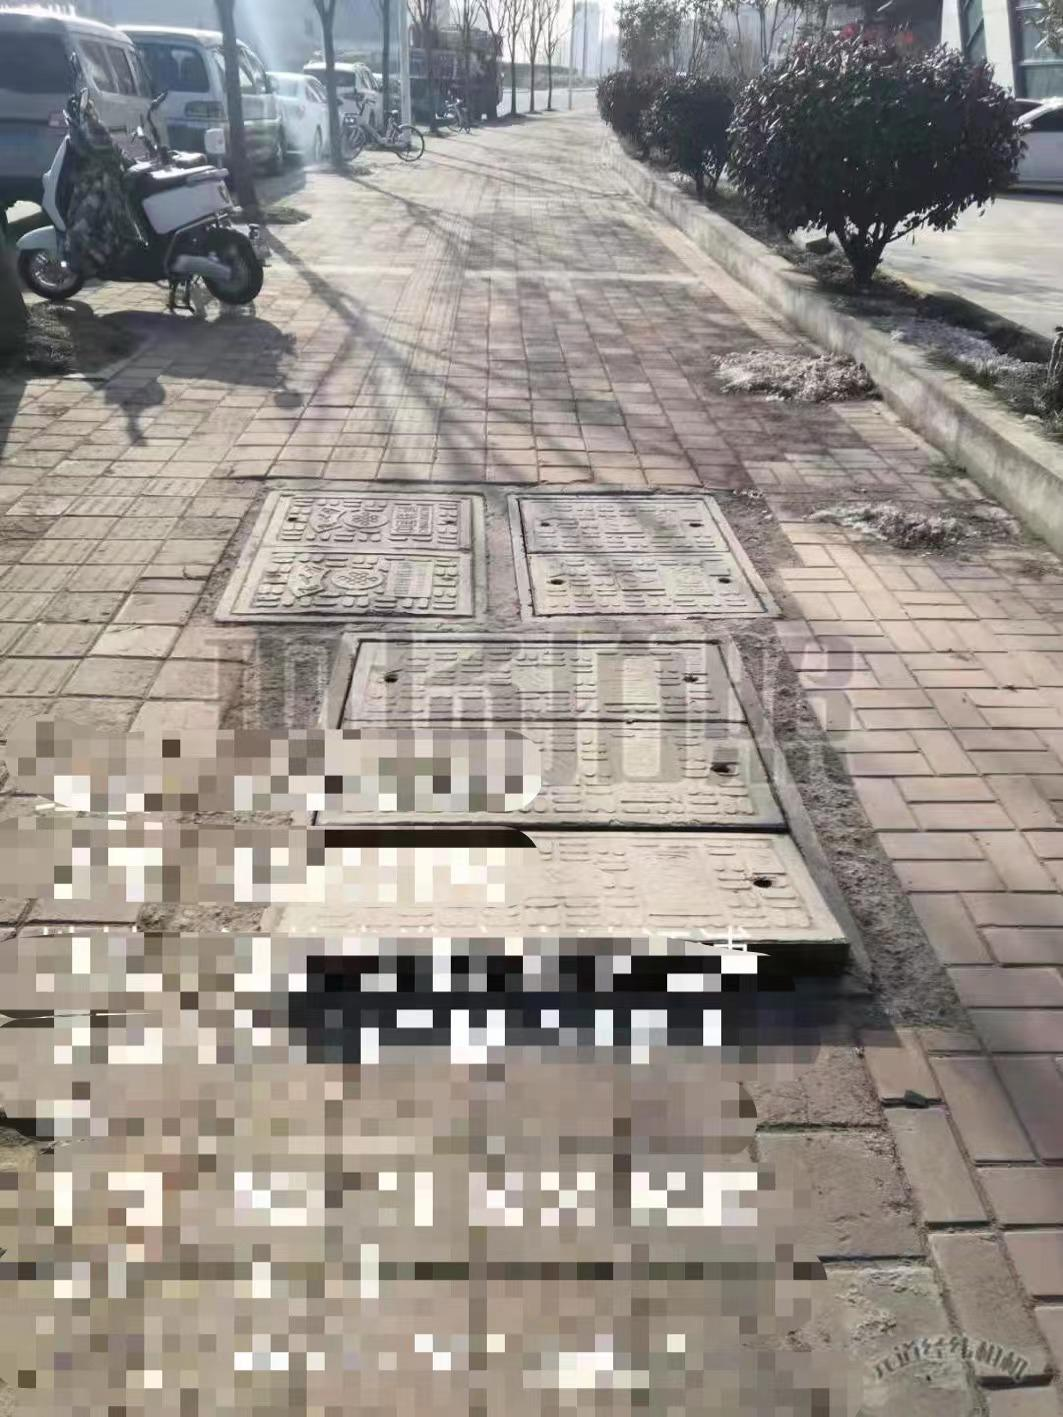wellcover: (243, 611, 884, 1031), (223, 458, 829, 639)
